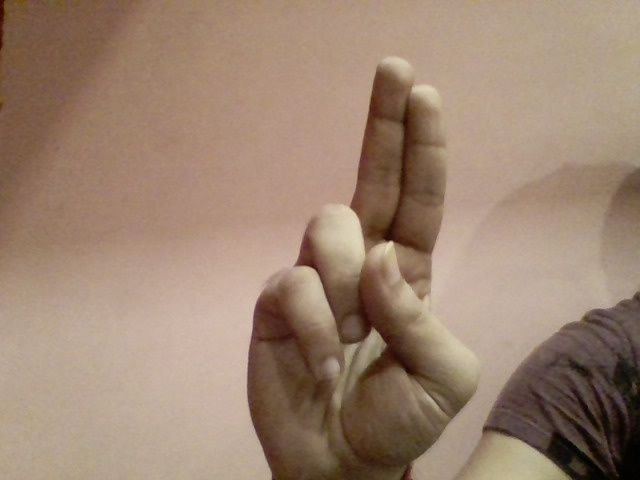u: (236, 51, 489, 472)
